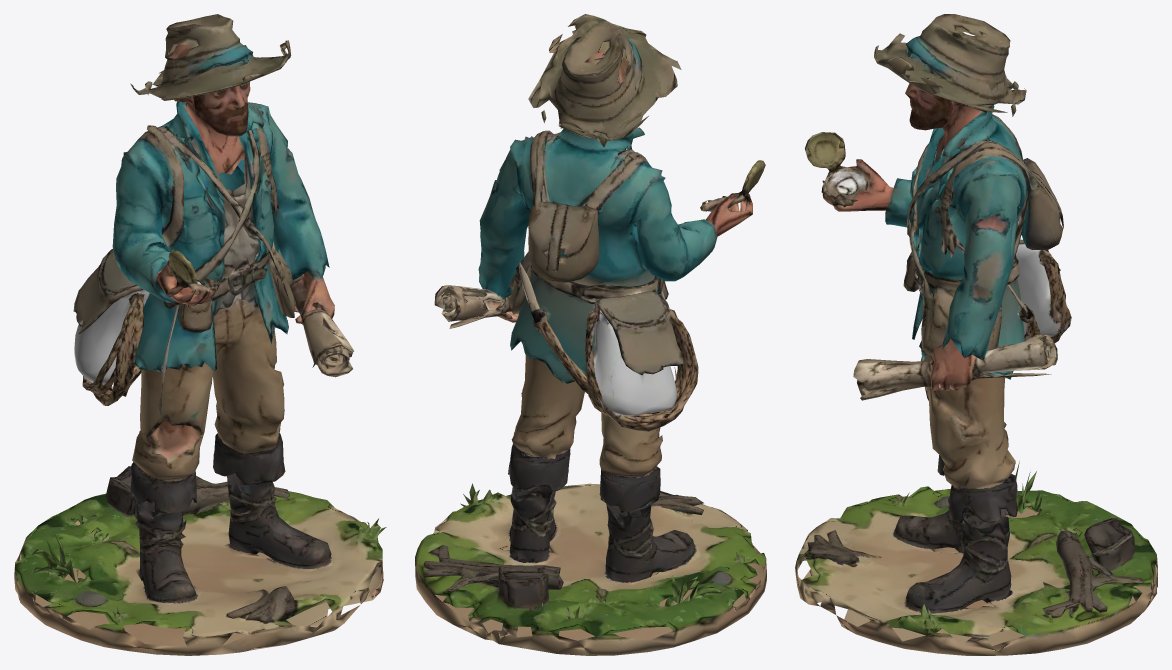
Rendered from sw-explorer.glb.
The picture shows the model from 3 angles, left to right: view 1: azimuth 30°, elevation 25°; view 2: azimuth 150°, elevation 25°; view 3: azimuth 270°, elevation 25°; orthographic projection. The views are drawn at different scales.
Parts seen in each view (by area): view 1: geometry_0; view 2: geometry_0; view 3: geometry_0.
Boxes of the visible parts, x1,y1,x2,y2 form: geometry_0: (14, 14, 386, 655); geometry_0: (415, 14, 766, 655); geometry_0: (795, 14, 1157, 655).
Bounding box in the file's own units: 0.4905 × 0.8345 × 0.4858.
1 material, 1 textured.
